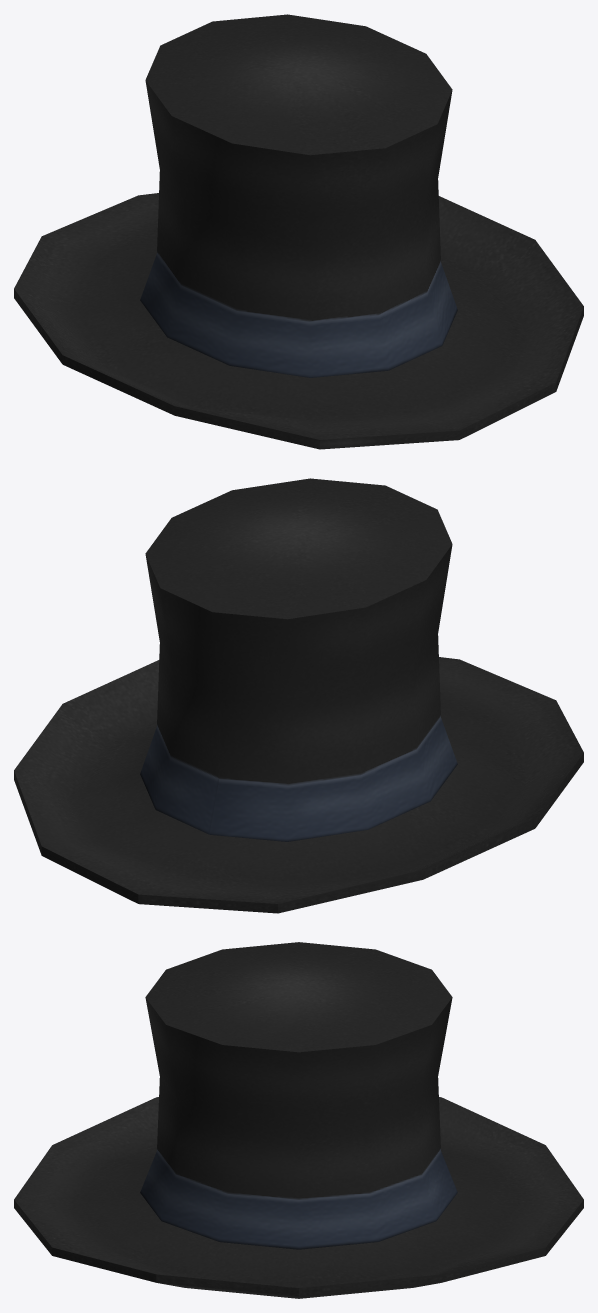
File: MagicHat.FBX
3 renders of one model, top to bottom at view 1: azimuth 30°, elevation 25°; view 2: azimuth 150°, elevation 25°; view 3: azimuth 270°, elevation 25°, orthographic. The views are drawn at different scales.
Visible parts, largest first — view 1: Cylinder001; view 2: Cylinder001; view 3: Cylinder001.
Boxes of the visible parts, x1,y1,x2,y2 form: Cylinder001: (14,14,583,449); Cylinder001: (14,478,583,913); Cylinder001: (14,942,583,1298).
Size of the model in its own units: 130 by 68.86 by 153.
